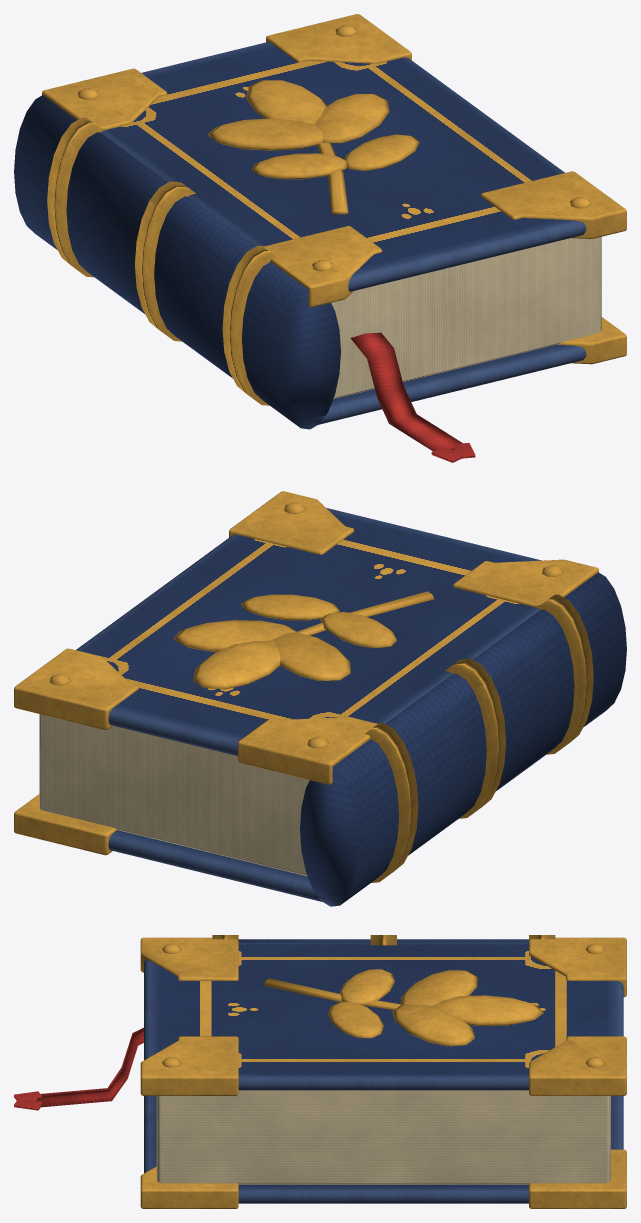
The model's file is book_navy.glb.
3 renders of one model, top to bottom at view 1: azimuth 30°, elevation 25°; view 2: azimuth 150°, elevation 25°; view 3: azimuth 270°, elevation 25°, orthographic. The views are drawn at different scales.
Visible parts, largest first — view 1: model; view 2: model; view 3: model.
Part boxes in pixels (x1,y1,x2,y2): model: (14,14,626,462); model: (14,491,626,906); model: (14,935,626,1208).
Size of the model in its own units: 0.1718 by 0.0732 by 0.2874.
Materials: 5 (5 with a texture image).
